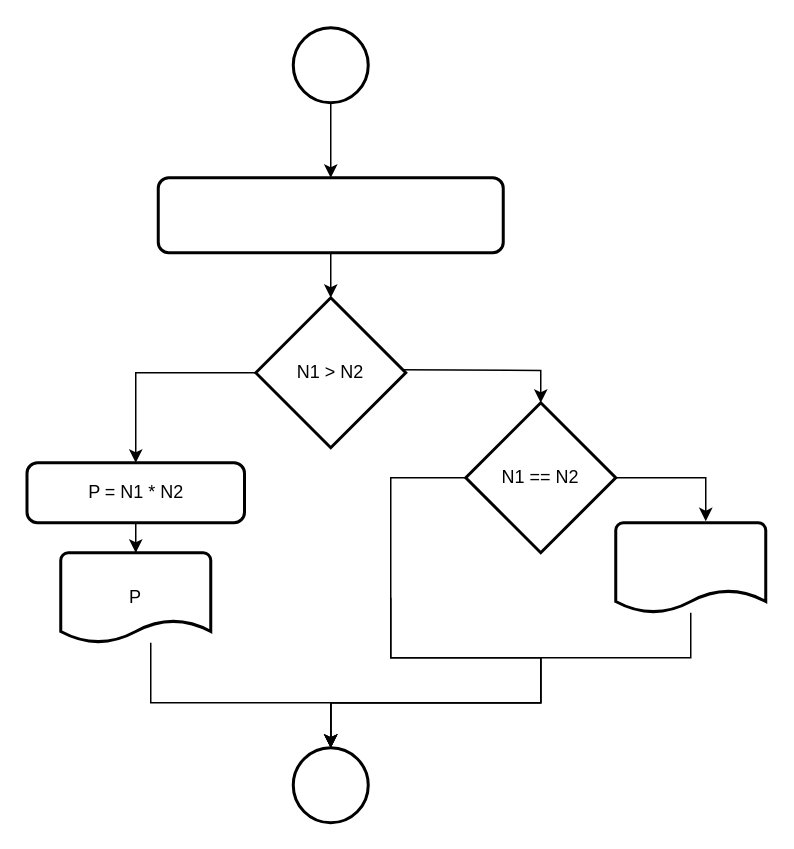
This 794x849 diagram has some shape labels left out. The shapes that lost their labels are listed below. From the top down, each one's box as (x1, y1, x2, y2) in pixels, then its label:
(156, 176, 504, 254): ingreso N1, N2
(614, 520, 766, 614): "Los nros son iguales"
